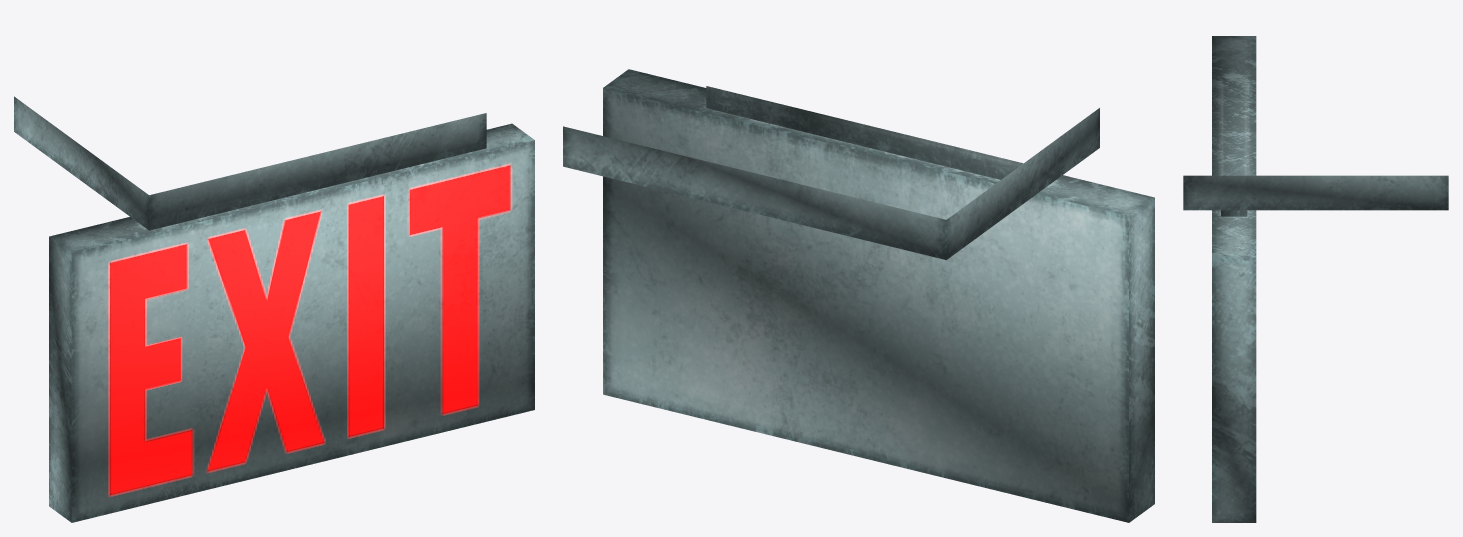
3 renders of one model, left to right at view 1: azimuth 30°, elevation 25°; view 2: azimuth 150°, elevation 25°; view 3: azimuth 270°, elevation 25°, orthographic. The views are drawn at different scales.
Parts seen in each view (by area): view 1: Exit_Sing; view 2: Exit_Sing; view 3: Exit_Sing.
Part boxes in pixels (x1,y1,x2,y2): Exit_Sing: [14, 96, 534, 522]; Exit_Sing: [563, 69, 1154, 522]; Exit_Sing: [1183, 36, 1448, 522].
Bounding box in the file's own units: 0.464 × 0.3093 × 0.2344.
1 material, 1 textured.
